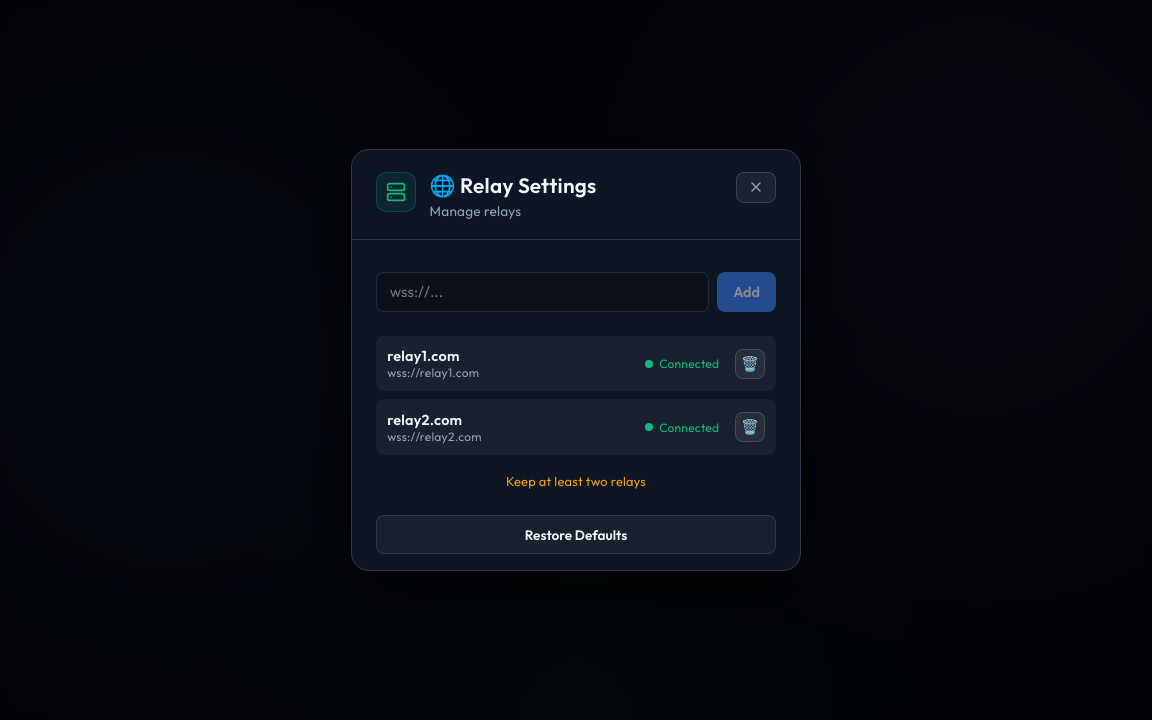
RelaySettingsModal — remover relay › deve exibir confirmação ao clicar em remover (não remove direto)
Click the button titled "Remove" in the row of "wss://relay1.com" at (750,364), box [735,349,765,378]
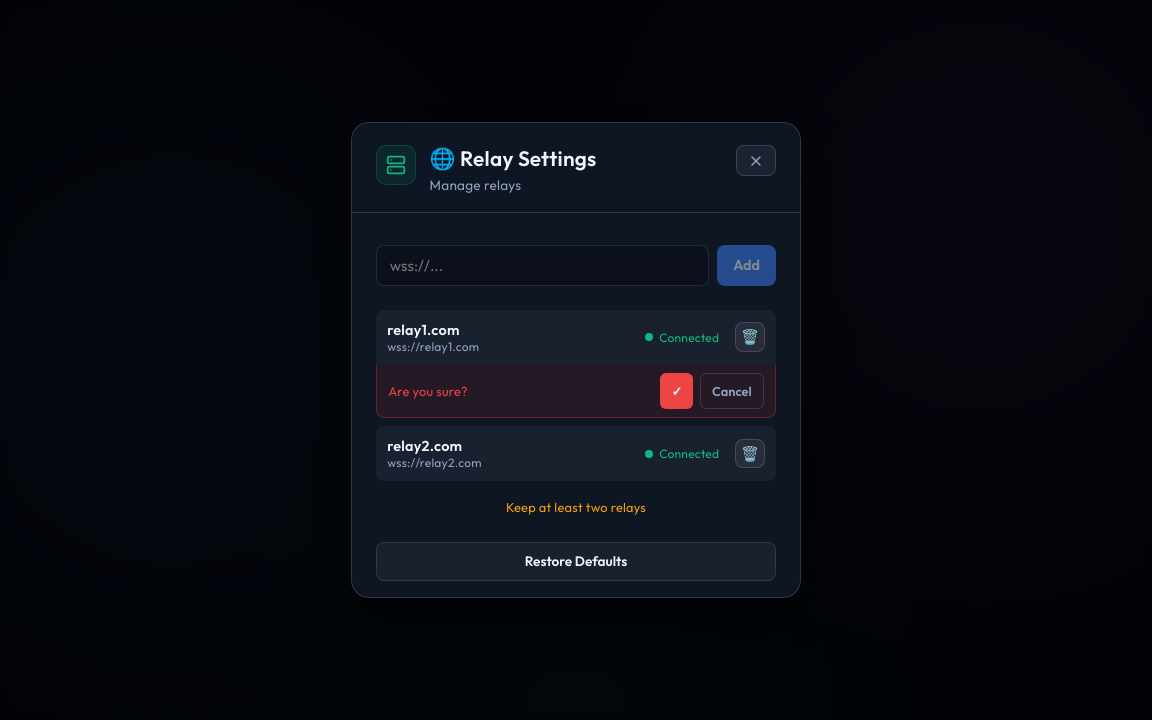
Expected: the text "Are you sure?" is shown, [388,383,468,399]
